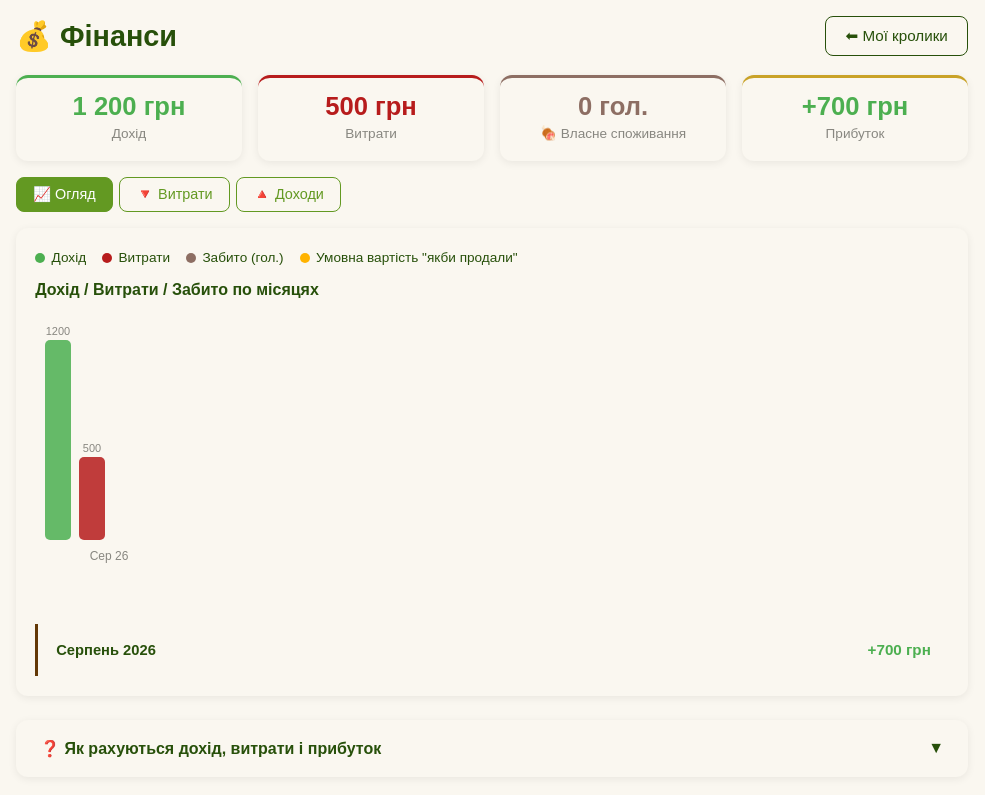
Test case: FinancesPage: помилки Supabase › видалення витрати: помилка показується, витрата лишається в списку
What coordinates should you click on to do the following:
click the button "🔻 Витрати"
I would click on:
 (174, 194)
Its box is [119,177,230,212].
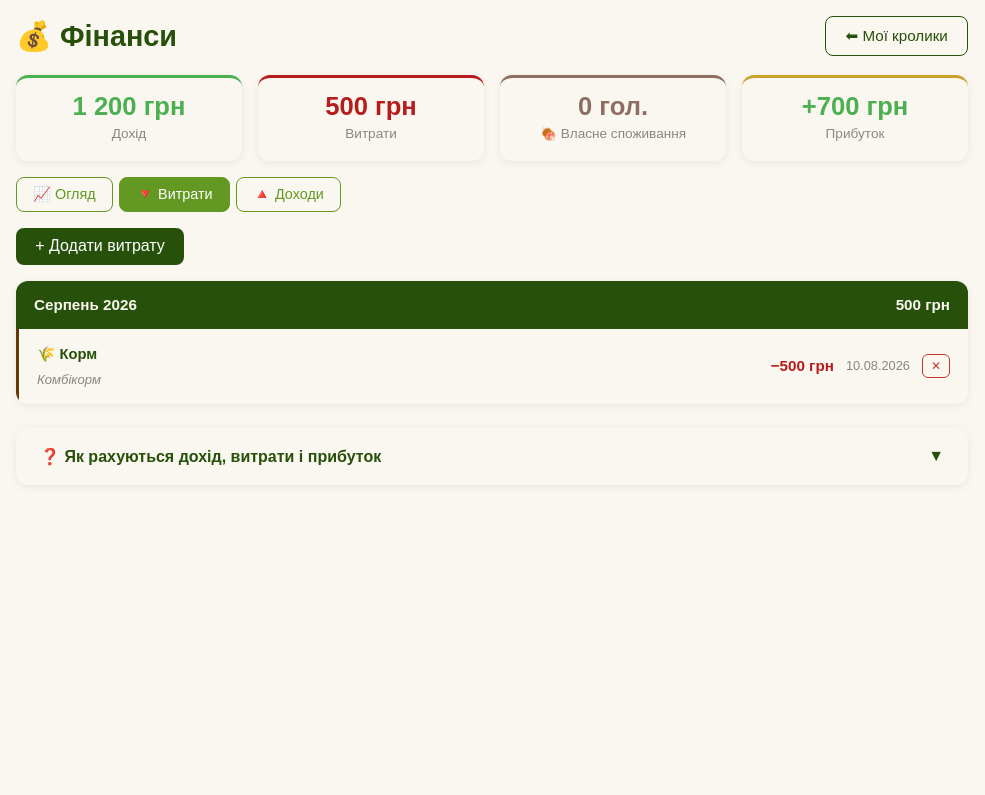
What coordinates should you click on to do the following:
click the button with class "finances-delete-btn"
I would click on:
 (936, 366)
Its box is [922,354,950,378].
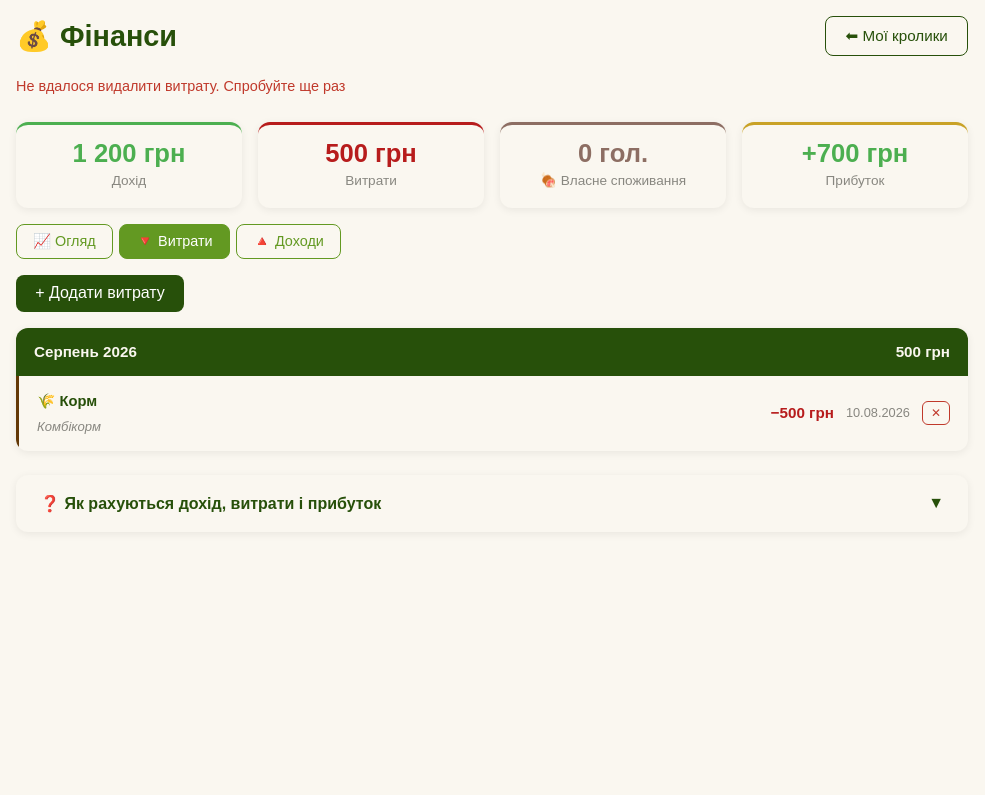
Check: the text "Комбікорм" is shown, box [37,416,101,437]
Check: the text "Не вдалося видалити витрату. Спробуйте ще раз" is shown, box [16,78,345,94]
